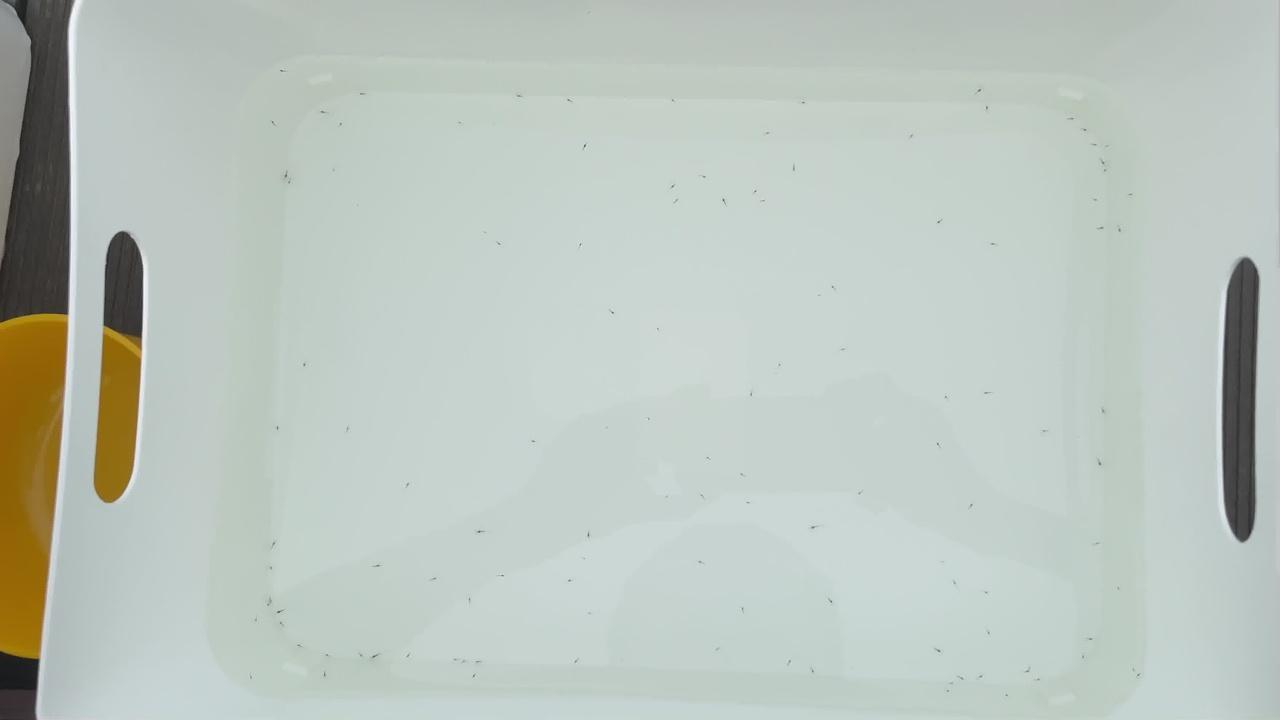shrimp: (1041, 428, 1054, 436), (854, 489, 867, 497), (965, 500, 978, 508), (1095, 224, 1108, 232), (1063, 113, 1076, 121), (759, 196, 772, 204), (578, 141, 591, 149), (341, 423, 354, 431), (320, 650, 333, 658), (401, 655, 414, 663), (459, 656, 472, 664), (569, 656, 582, 664), (496, 572, 509, 580), (401, 478, 414, 486), (526, 439, 539, 447), (1078, 655, 1090, 663), (934, 439, 946, 447), (1089, 141, 1101, 149), (790, 162, 802, 170), (285, 179, 297, 187), (1134, 672, 1147, 679), (1128, 665, 1141, 672), (1114, 587, 1127, 594), (1096, 462, 1109, 469), (1099, 405, 1112, 412), (1096, 526, 1109, 533), (1031, 677, 1044, 684), (1000, 691, 1013, 698), (976, 674, 989, 681), (955, 676, 968, 683), (945, 679, 958, 686), (941, 686, 954, 693), (932, 639, 945, 646), (982, 591, 995, 598), (948, 579, 961, 586), (806, 670, 819, 677), (786, 660, 799, 667), (712, 646, 725, 653), (736, 606, 749, 613), (824, 597, 837, 604), (809, 525, 822, 532), (939, 397, 952, 404), (1114, 223, 1127, 230), (1091, 197, 1104, 204), (1123, 189, 1136, 196), (1100, 166, 1113, 173), (1097, 159, 1110, 166), (1100, 144, 1113, 151), (1078, 125, 1091, 132), (982, 103, 995, 110), (976, 86, 989, 93), (988, 238, 1001, 245), (932, 218, 945, 225), (906, 135, 919, 142), (797, 100, 810, 107), (760, 129, 773, 136), (749, 188, 762, 195), (672, 196, 685, 203), (512, 93, 525, 100), (455, 121, 468, 128), (355, 92, 368, 99), (333, 121, 346, 128), (318, 106, 331, 113), (279, 70, 292, 77), (265, 121, 278, 128), (280, 174, 293, 181), (298, 360, 311, 367), (272, 425, 285, 432), (268, 541, 281, 548), (264, 563, 277, 570), (264, 599, 277, 606), (249, 614, 262, 621), (276, 620, 289, 627), (294, 640, 307, 647), (355, 652, 368, 659), (368, 652, 381, 659), (329, 689, 342, 696), (450, 655, 463, 662), (566, 576, 579, 583), (584, 533, 597, 540), (372, 561, 385, 568), (474, 527, 487, 534), (742, 498, 755, 505), (739, 474, 752, 481), (841, 351, 854, 358), (654, 329, 667, 336), (608, 309, 621, 316), (575, 241, 588, 248), (495, 242, 508, 249), (1083, 665, 1095, 672), (1089, 635, 1101, 642), (1094, 542, 1106, 549), (1022, 666, 1034, 673), (984, 626, 996, 633), (933, 648, 945, 655), (696, 559, 708, 566), (978, 388, 990, 395), (718, 197, 730, 204), (696, 174, 708, 181), (668, 183, 680, 190), (668, 98, 680, 105), (563, 98, 575, 105), (247, 674, 259, 681), (274, 608, 286, 615), (319, 671, 331, 678), (469, 672, 481, 679), (474, 657, 486, 664), (463, 598, 475, 605), (430, 577, 442, 584), (696, 494, 708, 501), (701, 456, 713, 463), (645, 413, 657, 420), (745, 391, 757, 398), (773, 363, 785, 370), (828, 283, 840, 290)
